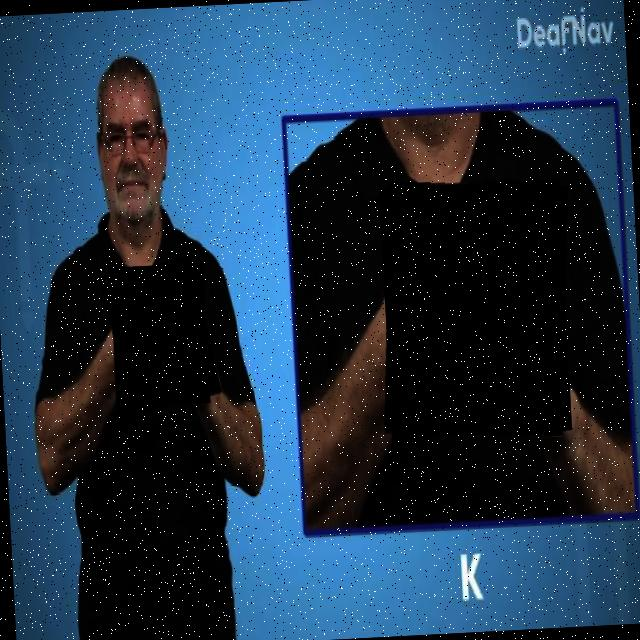K: (377, 178, 578, 444), (106, 260, 219, 414)
